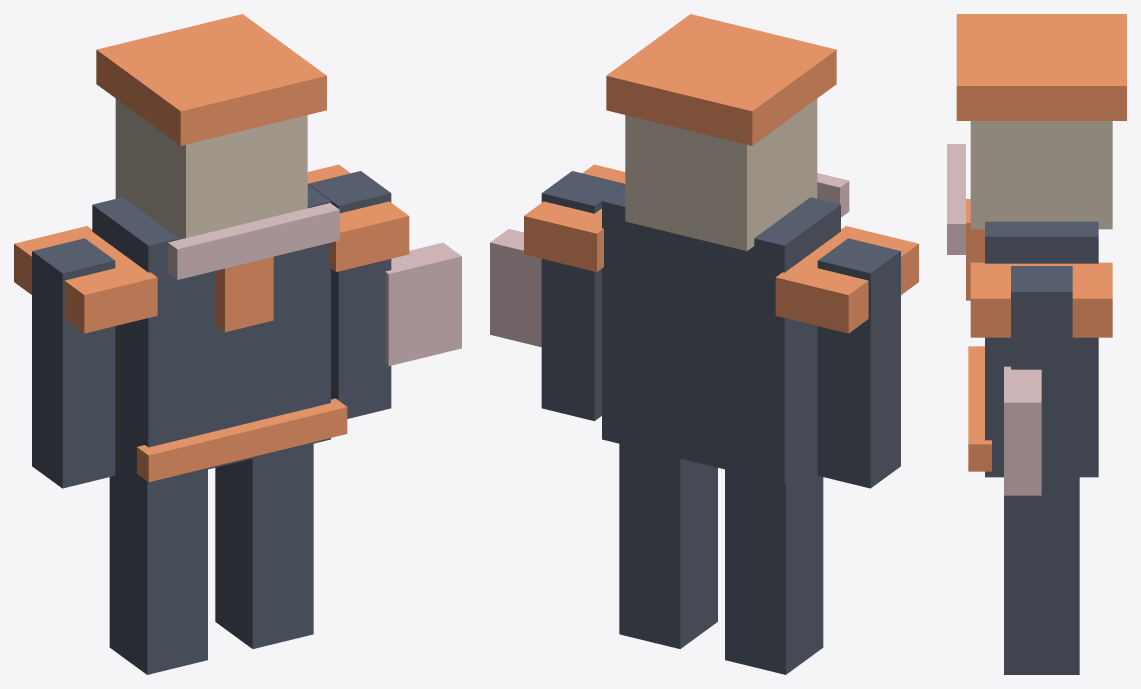
File: 07_elo_glassroot_marshal_from_central.glb
The picture shows the model from 3 angles, left to right: view 1: azimuth 30°, elevation 25°; view 2: azimuth 150°, elevation 25°; view 3: azimuth 270°, elevation 25°; orthographic projection.
Visible parts, largest first — view 1: Elo Glassroot, Marshal from Central; view 2: Elo Glassroot, Marshal from Central; view 3: Elo Glassroot, Marshal from Central.
Boxes of the visible parts, x1=… form: Elo Glassroot, Marshal from Central: x1=14, y1=14, x2=461, y2=674; Elo Glassroot, Marshal from Central: x1=490, y1=14, x2=918, y2=674; Elo Glassroot, Marshal from Central: x1=947, y1=14, x2=1126, y2=674.
Size of the model in its own units: 1.05 by 1.47 by 0.4099.
